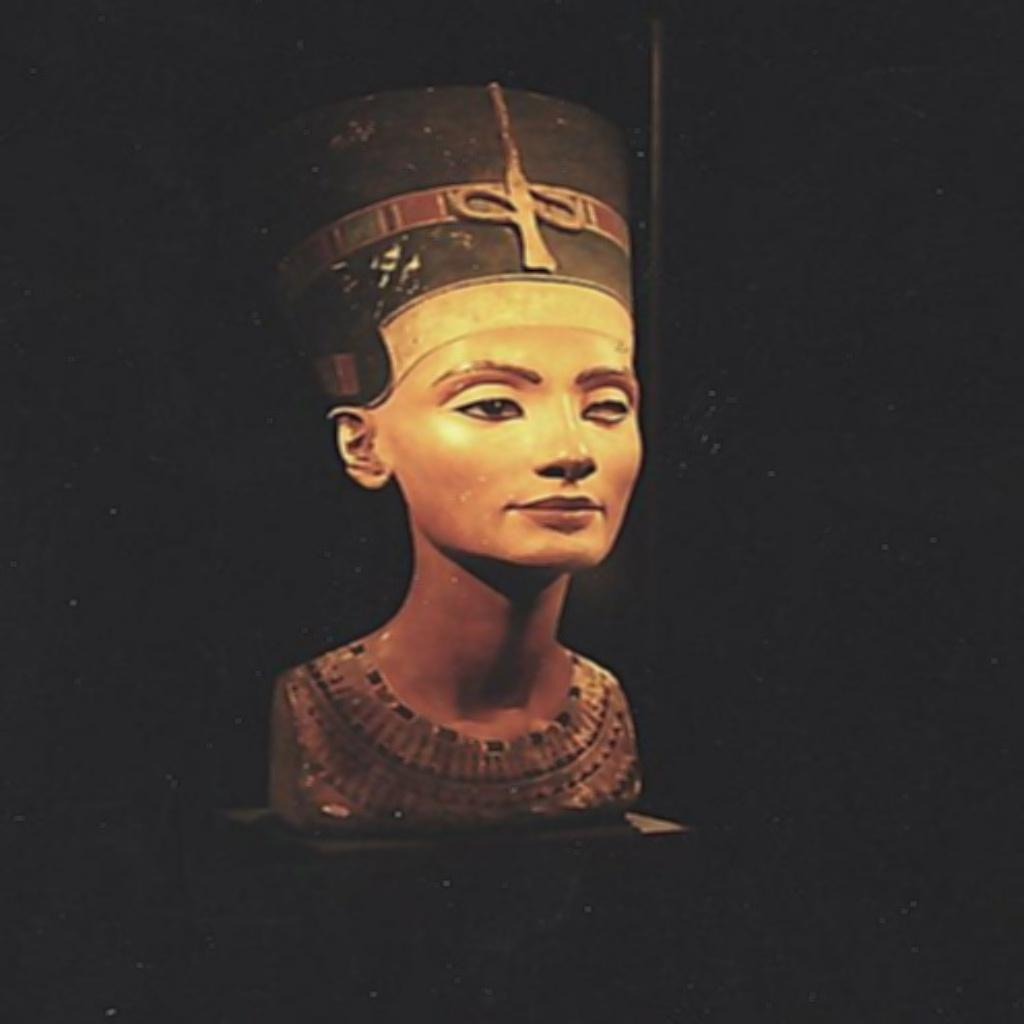Nefertiti: (248, 78, 662, 840)
